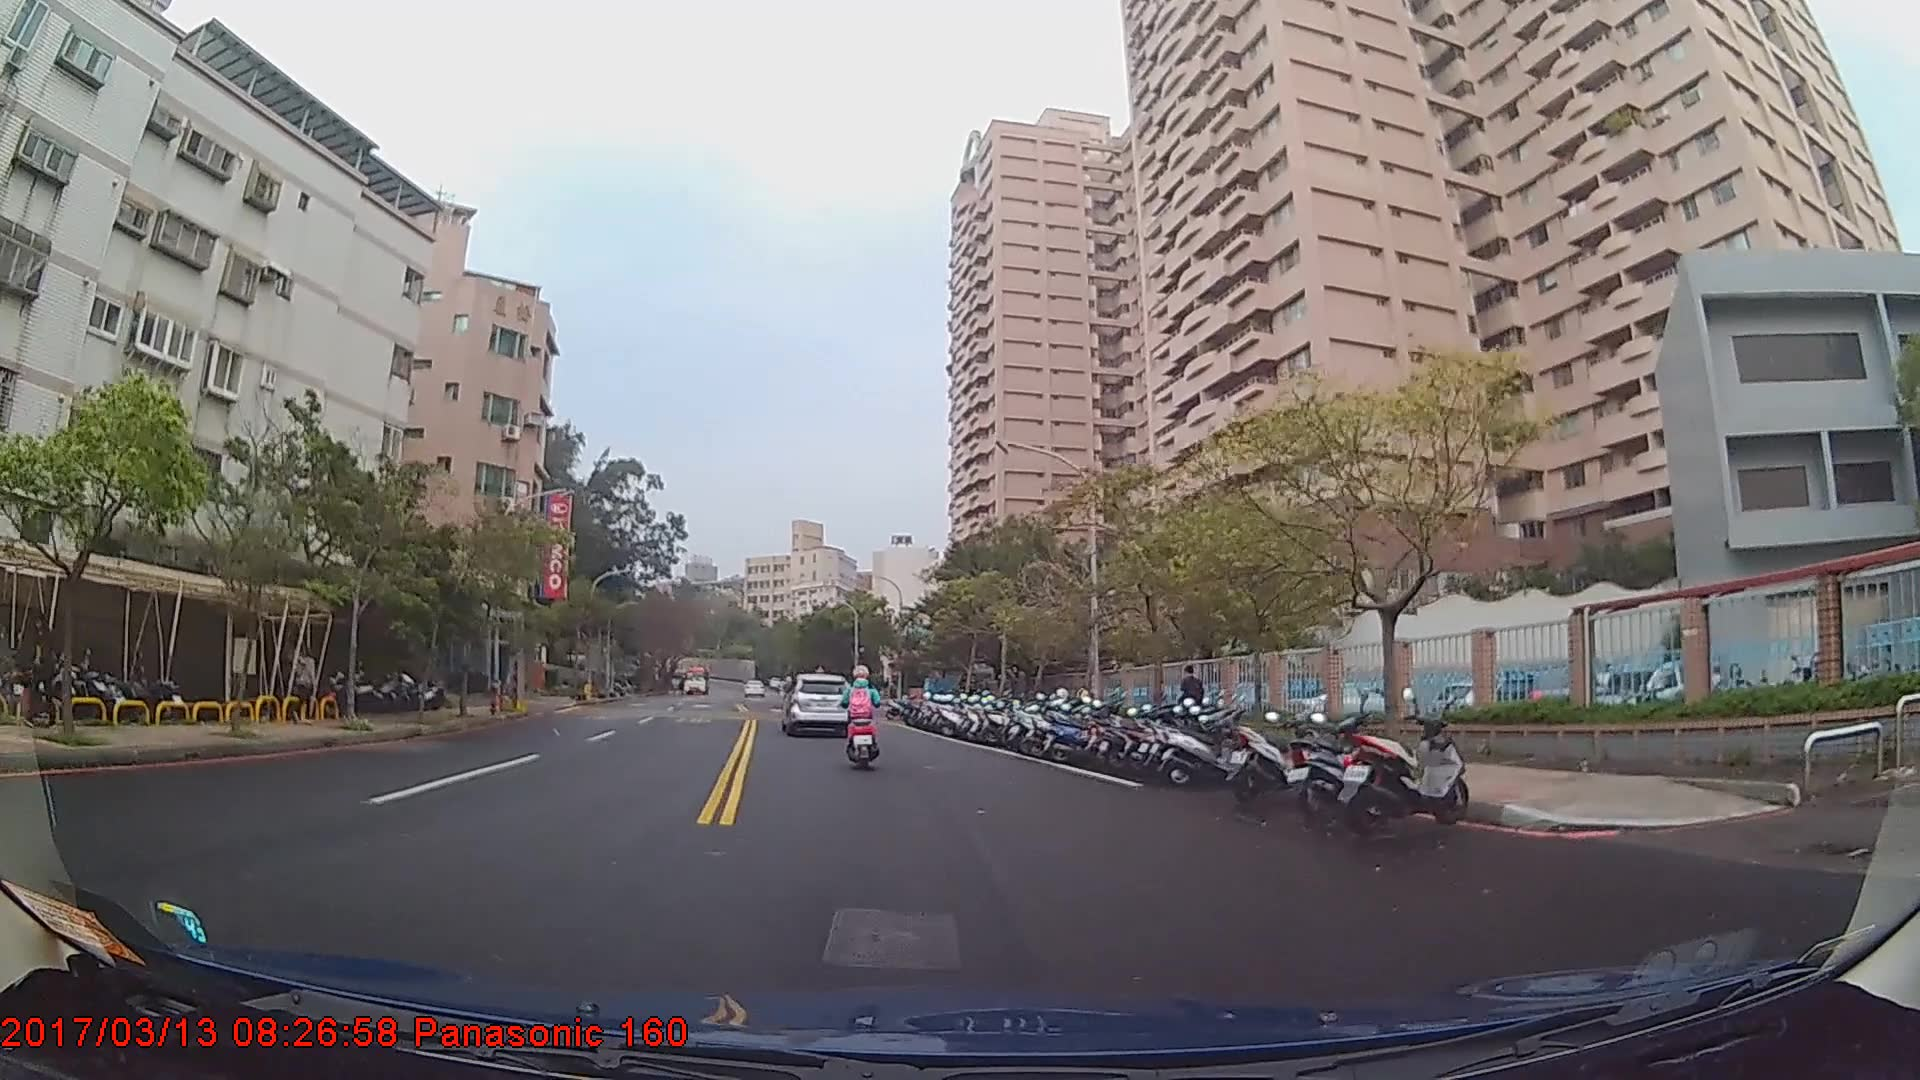pedestrian: (22, 605, 62, 728), (1180, 665, 1208, 742), (291, 646, 318, 727)
rider: (844, 667, 884, 769)
vehicle: (782, 671, 851, 735), (679, 665, 712, 697)
